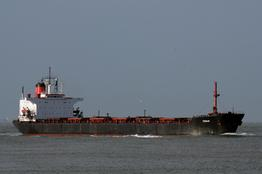Cargoship: (11, 66, 245, 137)
